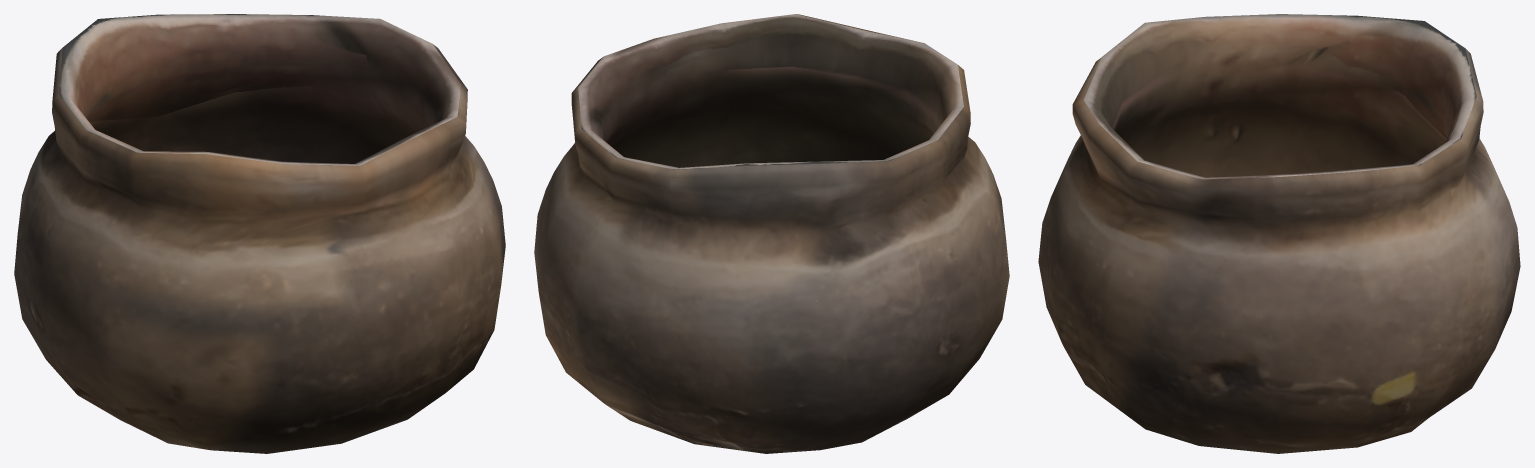
Rendered from olla tipo 3.fbx.
The picture shows the model from 3 angles, left to right: view 1: azimuth 30°, elevation 25°; view 2: azimuth 150°, elevation 25°; view 3: azimuth 270°, elevation 25°; orthographic projection. The views are drawn at different scales.
Visible parts, largest first — view 1: olla tipo 3; view 2: olla tipo 3; view 3: olla tipo 3.
Boxes of the visible parts, x1,y1,x2,y2 form: olla tipo 3: (14, 14, 505, 453); olla tipo 3: (534, 14, 1009, 453); olla tipo 3: (1038, 14, 1520, 453).
Bounding box in the file's own units: 14.31 × 14.31 × 10.98.
1 material, 1 textured.
